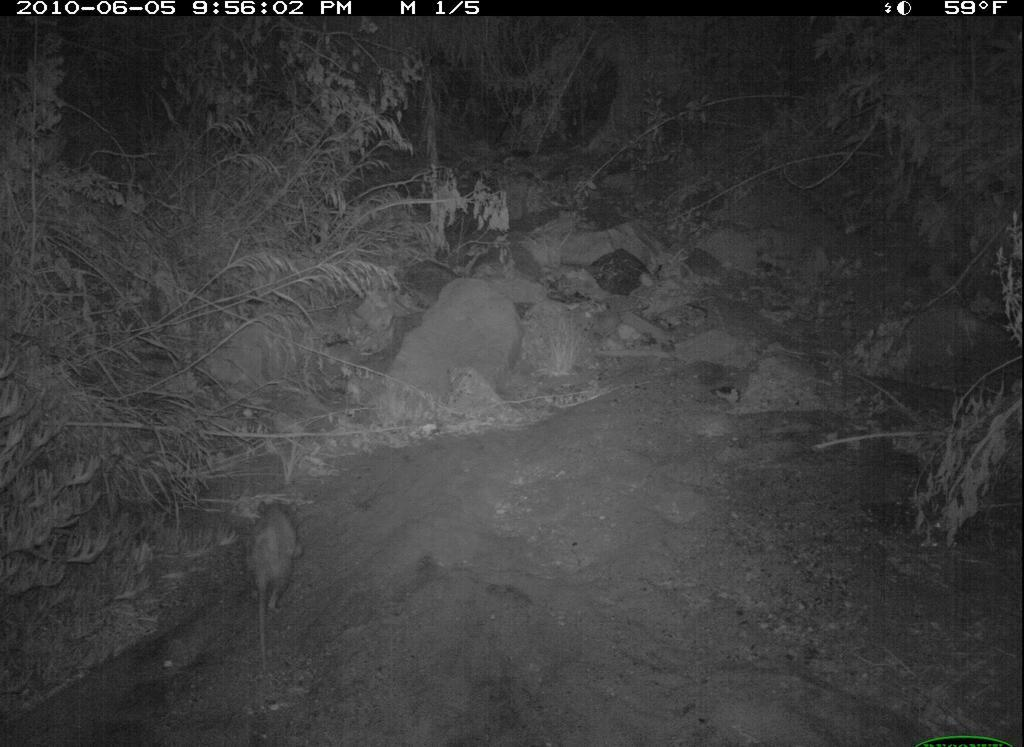opossum: (239, 479, 309, 687)
